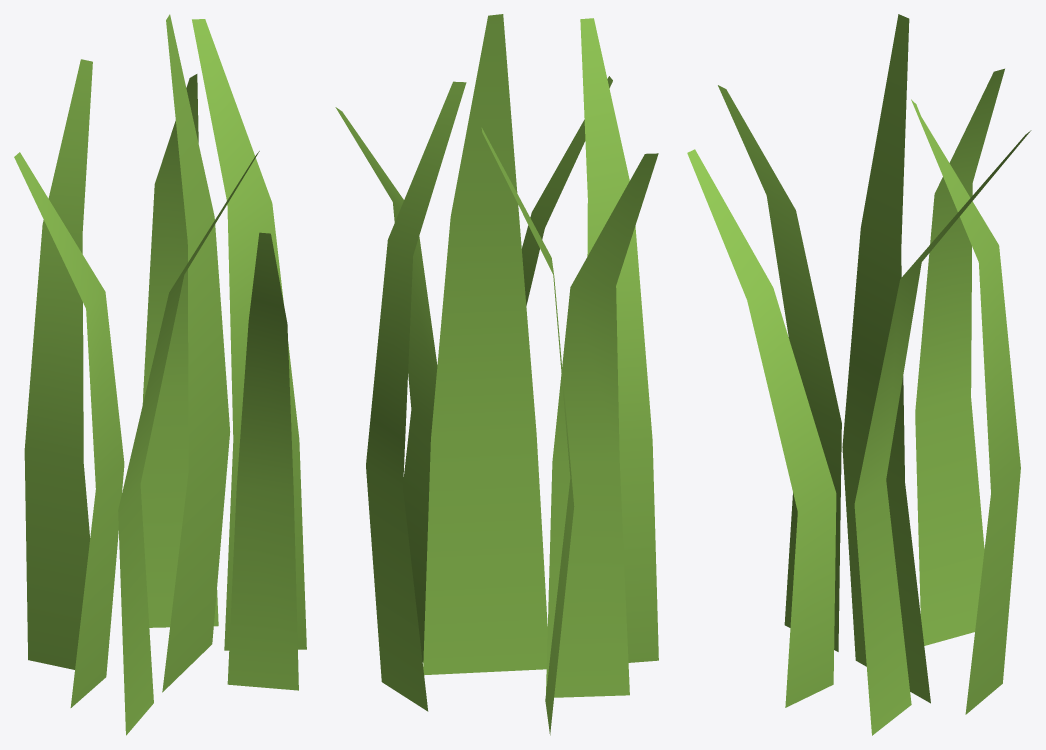
File: Gras.fbx
3 views of the same model, side by side, from view 1: azimuth 30°, elevation 25°; view 2: azimuth 150°, elevation 25°; view 3: azimuth 270°, elevation 25° (orthographic). The views are drawn at different scales.
Visible parts, largest first — view 1: Grass; view 2: Grass; view 3: Grass.
Boxes of the visible parts, x1=… form: Grass: x1=14, y1=14, x2=306, y2=735; Grass: x1=335, y1=14, x2=658, y2=735; Grass: x1=687, y1=14, x2=1031, y2=735.
Bounding box in the file's own units: 0.6108 × 0.6436 × 1.36.
